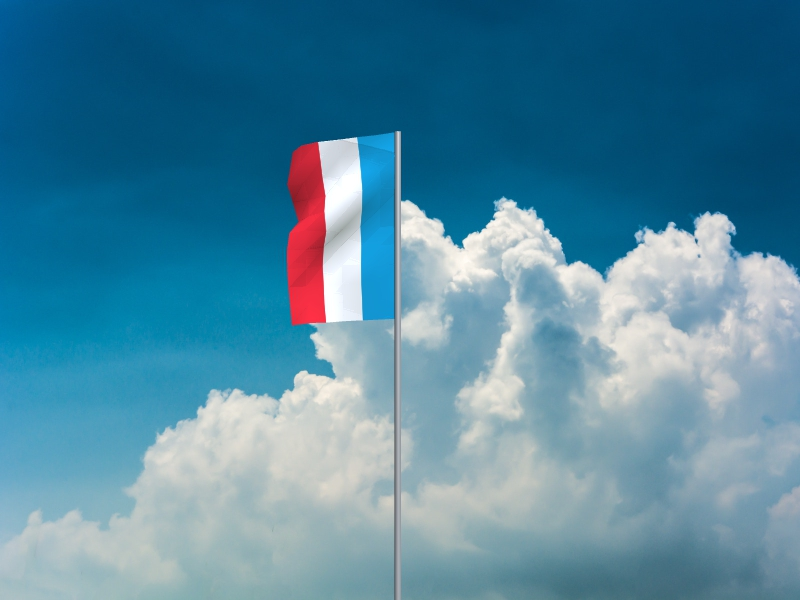lu: (286, 132, 395, 327)
